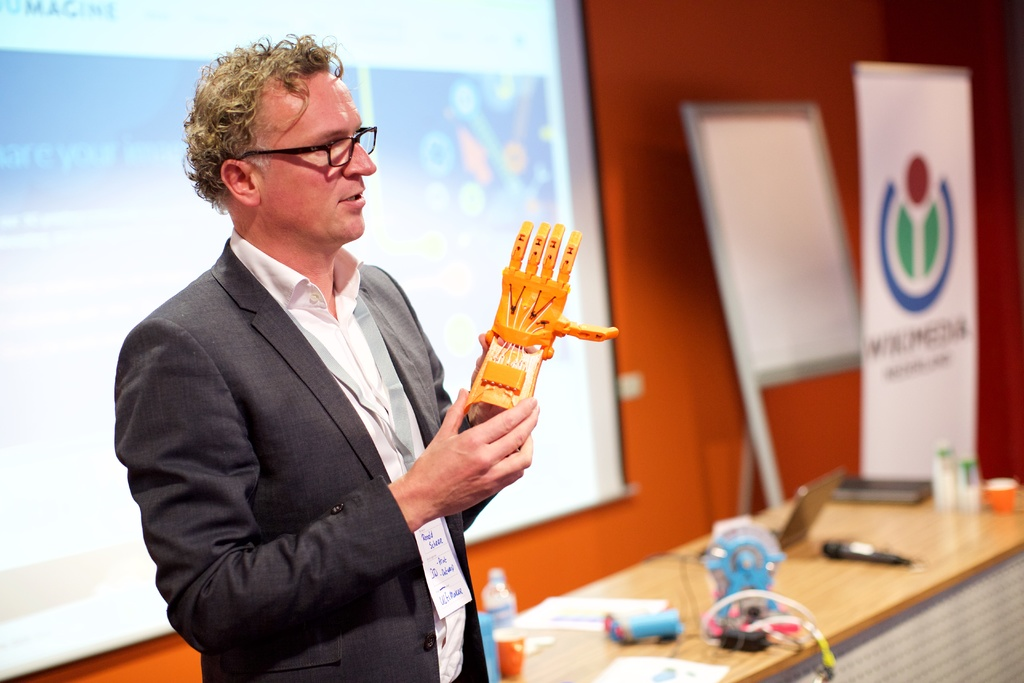Table: (550, 472, 1024, 679)
